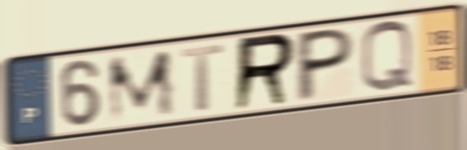6: (57, 57, 103, 129)
M: (104, 46, 179, 126)
P: (292, 25, 358, 106)
Q: (357, 18, 417, 96)
R: (230, 30, 299, 115)
T: (178, 41, 227, 115)
